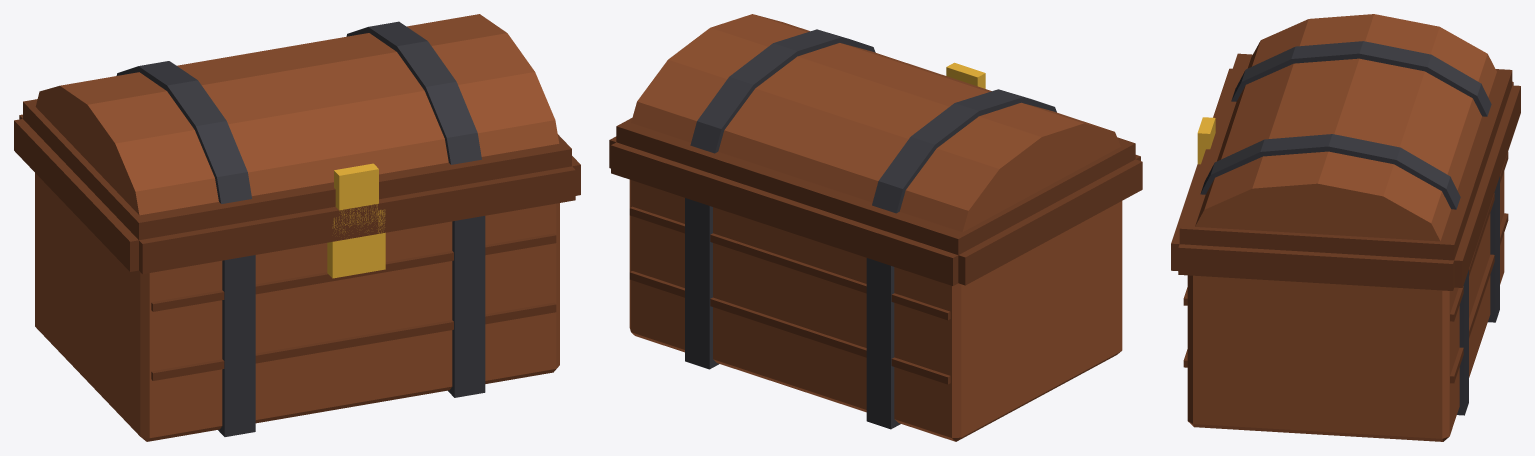
The model's file is chest.glb.
3 renders of one model, left to right at view 1: azimuth 30°, elevation 25°; view 2: azimuth 150°, elevation 25°; view 3: azimuth 270°, elevation 25°, orthographic. The views are drawn at different scales.
Visible parts, largest first — view 1: Chest_Base, Chest_Lid; view 2: Chest_Base, Chest_Lid; view 3: Chest_Lid, Chest_Base.
Boxes of the visible parts, x1,y1,x2,y2 form: Chest_Base: (14,114,580,441); Chest_Lid: (23,14,571,240); Chest_Base: (609,136,1142,441); Chest_Lid: (616,14,1135,254); Chest_Lid: (1179,14,1512,260); Chest_Base: (1171,68,1520,441).
Bounding box in the file's own units: 1.1 × 0.6745 × 0.8197.
